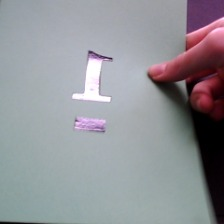green1: (66, 43, 122, 144)
